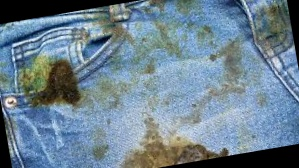earth: (132, 134, 221, 168), (33, 59, 83, 111), (217, 40, 247, 88), (255, 2, 289, 43), (105, 21, 127, 39)
